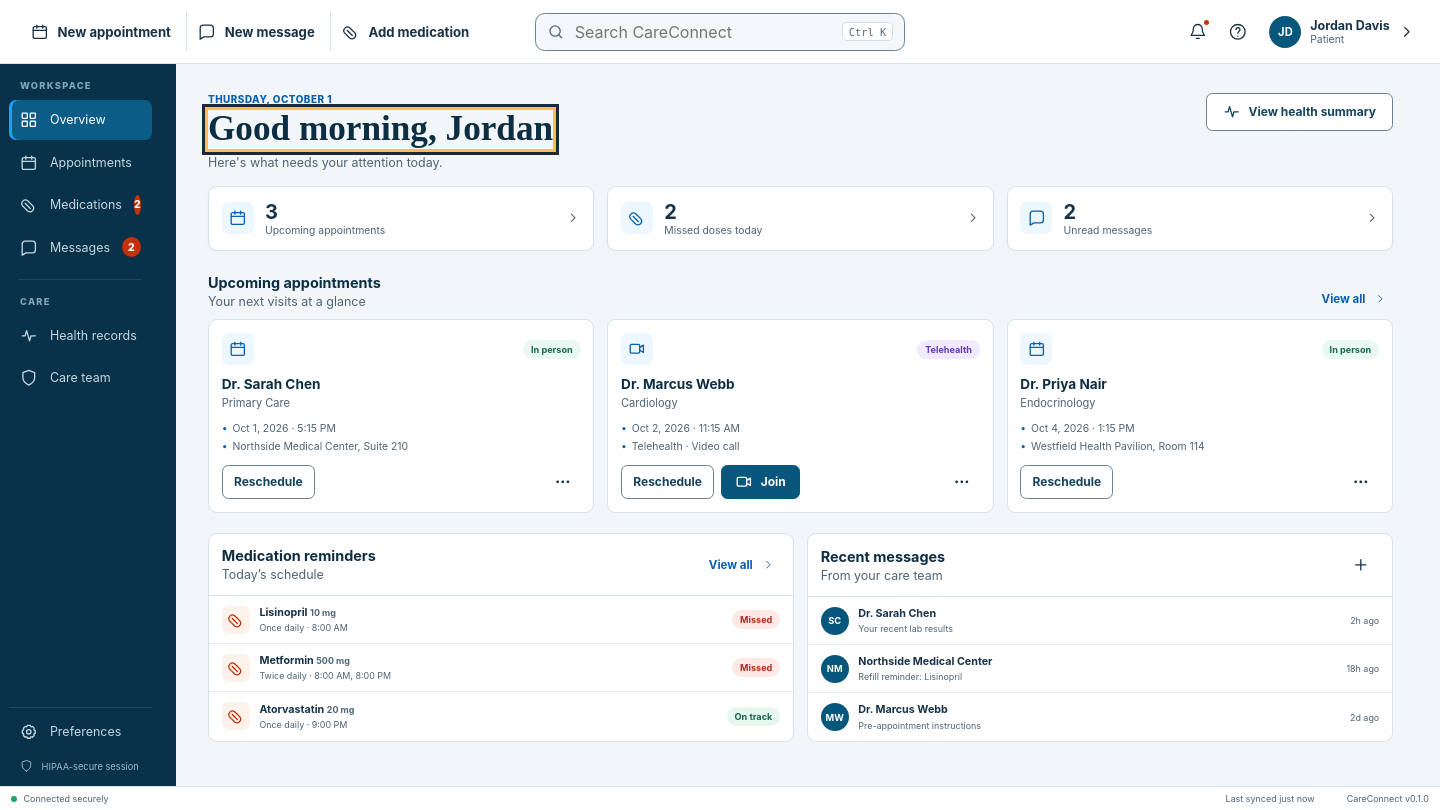
Test: CareConnect app › navigates to a selected search result
In the dropdown named "Search CareConnect": (703, 32) top-left (573, 20), bottom-right (834, 42), type "Metformin"
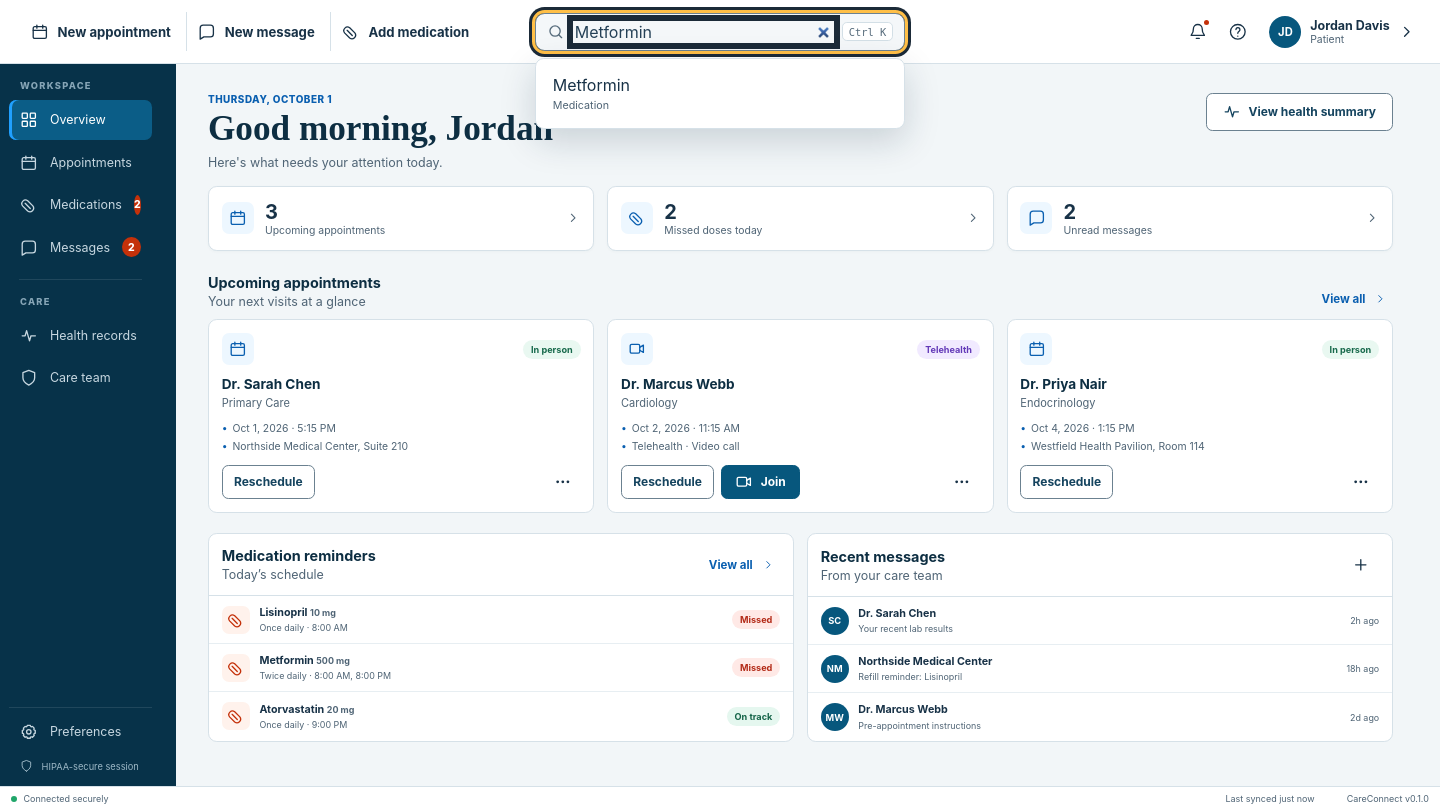
Click the option "Metformin Medication": (591, 85) top-left (542, 65), bottom-right (898, 122)
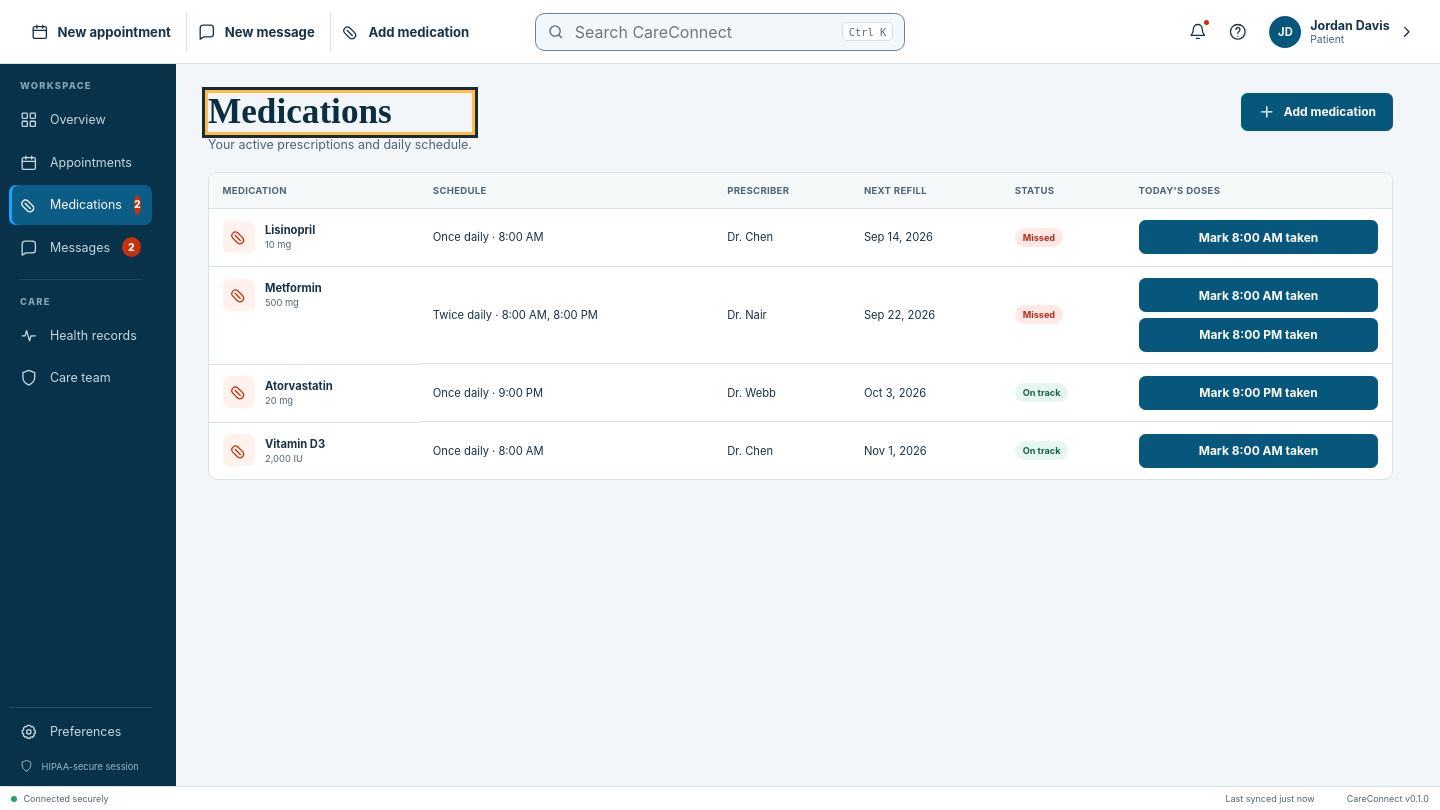
Expected: the cell "Metformin 500 mg" is shown, top-left (209, 266), bottom-right (419, 322)
Now the heading "Medications" is shown, box top-left (208, 93), bottom-right (472, 132)
Now the dropdown named "Search CareConnect" is empty, box top-left (573, 20), bottom-right (834, 42)
